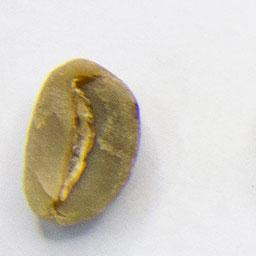longberry: (18, 53, 148, 229)
